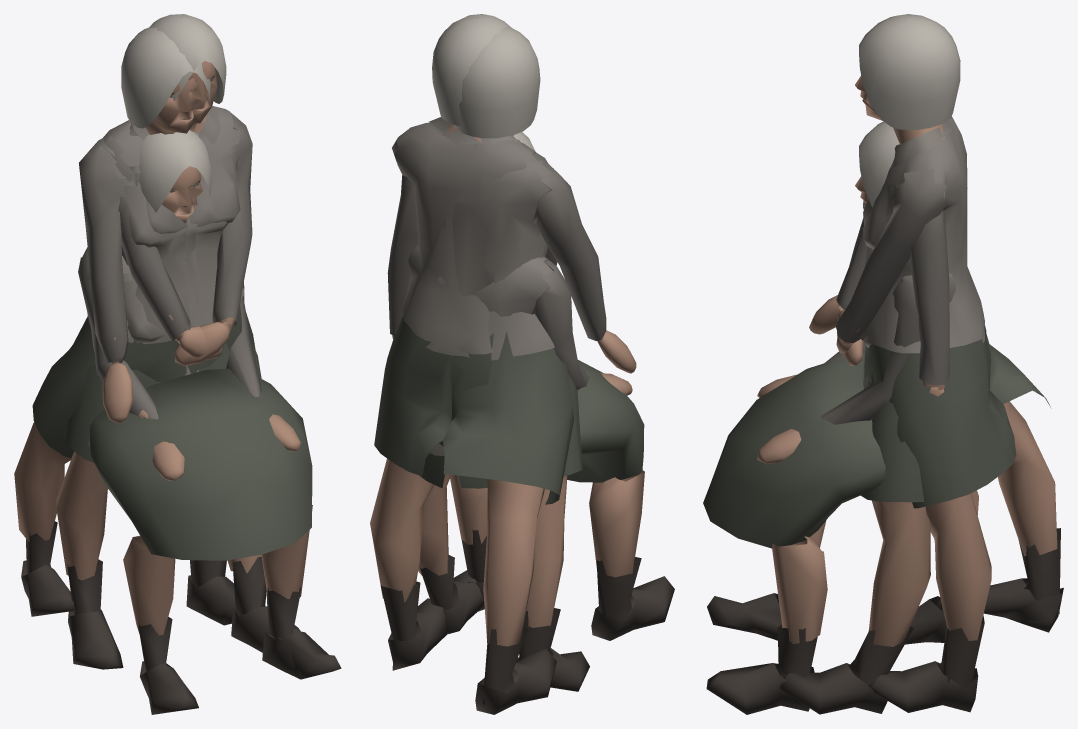
Rendered from crowd-03-far.glb.
3 views of the same model, side by side, from view 1: azimuth 30°, elevation 25°; view 2: azimuth 150°, elevation 25°; view 3: azimuth 270°, elevation 25° (orthographic). The views are drawn at different scales.
Visible parts, largest first — view 1: seated, walking, standing; view 2: walking, standing, seated; view 3: standing, seated, walking.
Part boxes in pixels (bbox=[...]): seated: bbox=[78, 130, 341, 714]; walking: bbox=[14, 27, 300, 652]; standing: bbox=[56, 14, 255, 669]; walking: bbox=[387, 27, 636, 714]; standing: bbox=[370, 14, 589, 691]; seated: bbox=[408, 132, 674, 640]; standing: bbox=[836, 14, 1016, 712]; seated: bbox=[703, 121, 965, 714]; walking: bbox=[779, 14, 1063, 714].
Size of the model in its own units: 0.5195 by 1.53 by 0.75.
